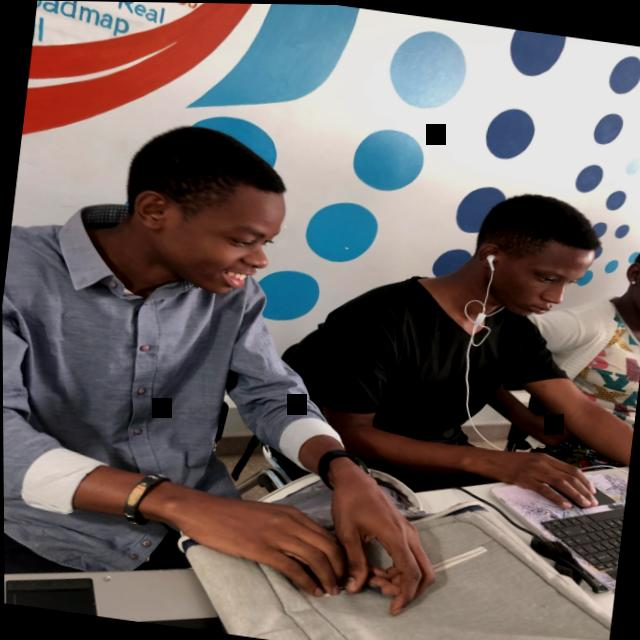NO-Mask: (188, 183, 288, 298), (513, 240, 600, 321), (634, 265, 640, 320)
